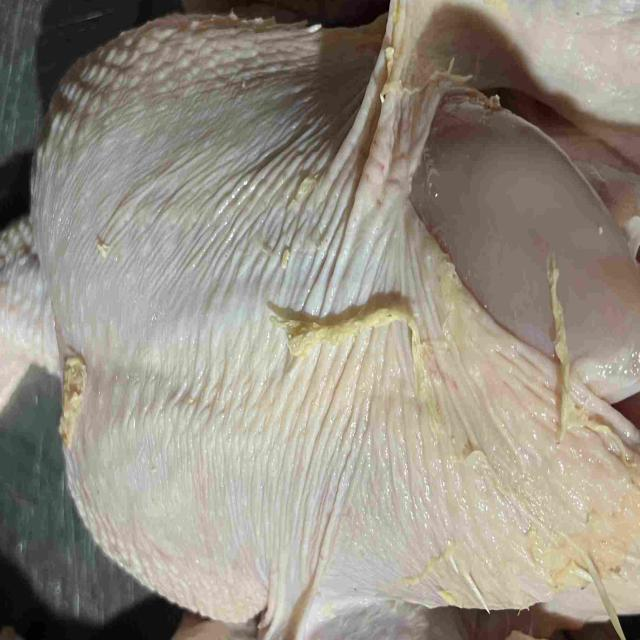breast: (29, 6, 640, 611)
neck: (0, 228, 59, 419)
